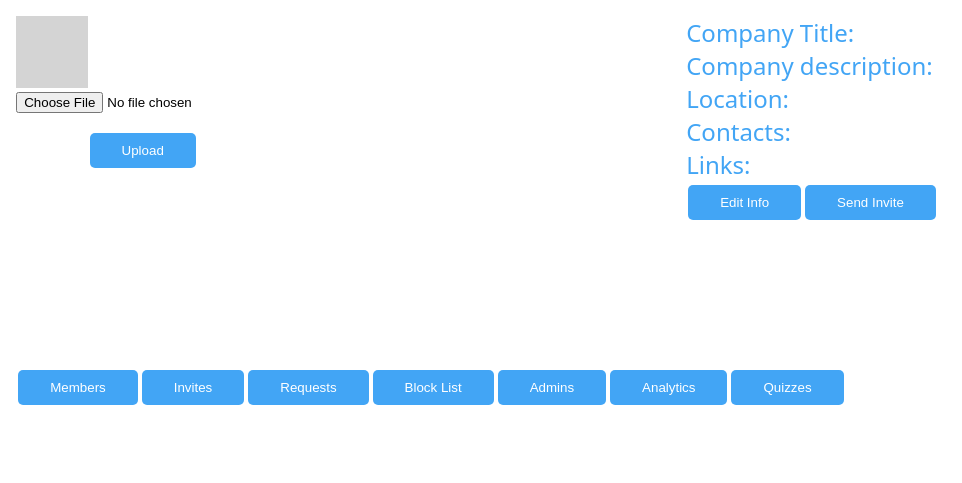
Test: CompanyContainer › renders CompanyProfileInvites when "Invites" button is clicked
The width and height of the screenshot is (962, 483).
Click the button "Invites" at [193, 388], box top-left (142, 370), bottom-right (244, 405)
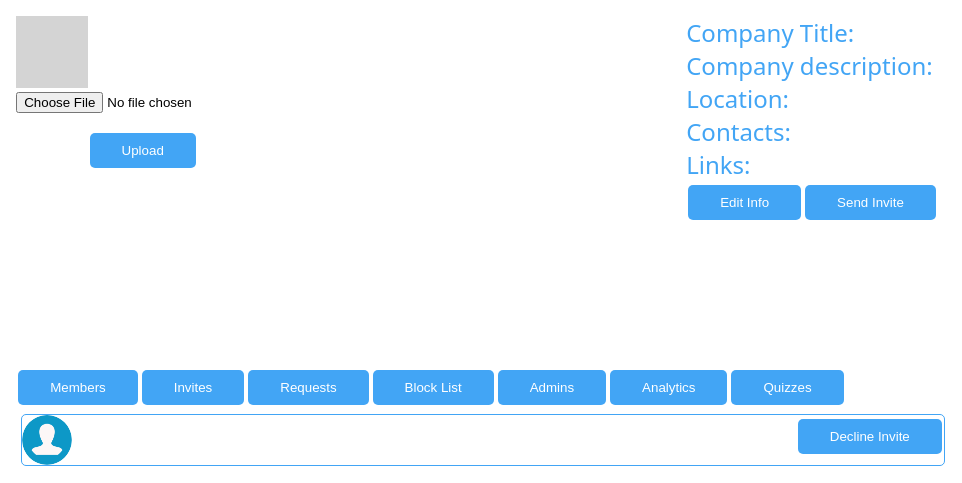
Check: the element with test id "company-profile-invites" is shown, box top-left (16, 414), bottom-right (938, 466)
